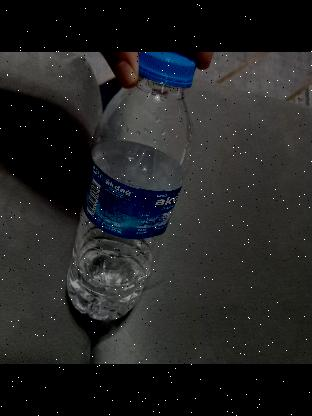Plastic Bottle: (62, 55, 194, 322)
